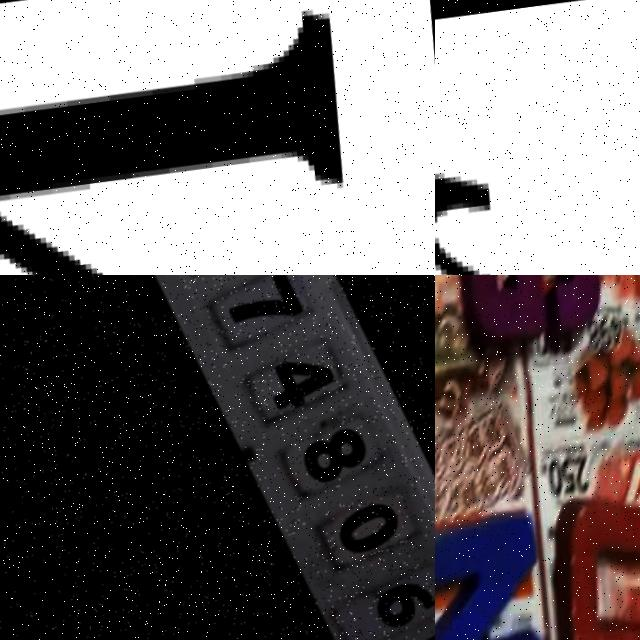0: (318, 477, 434, 569)
4: (244, 325, 368, 425)
6: (358, 554, 435, 640)
7: (208, 275, 327, 350)
8: (280, 402, 403, 499)
G: (448, 275, 616, 344)
J: (435, 88, 640, 275)
N: (435, 517, 565, 640)
U: (552, 483, 640, 640)
V: (0, 0, 417, 275)
